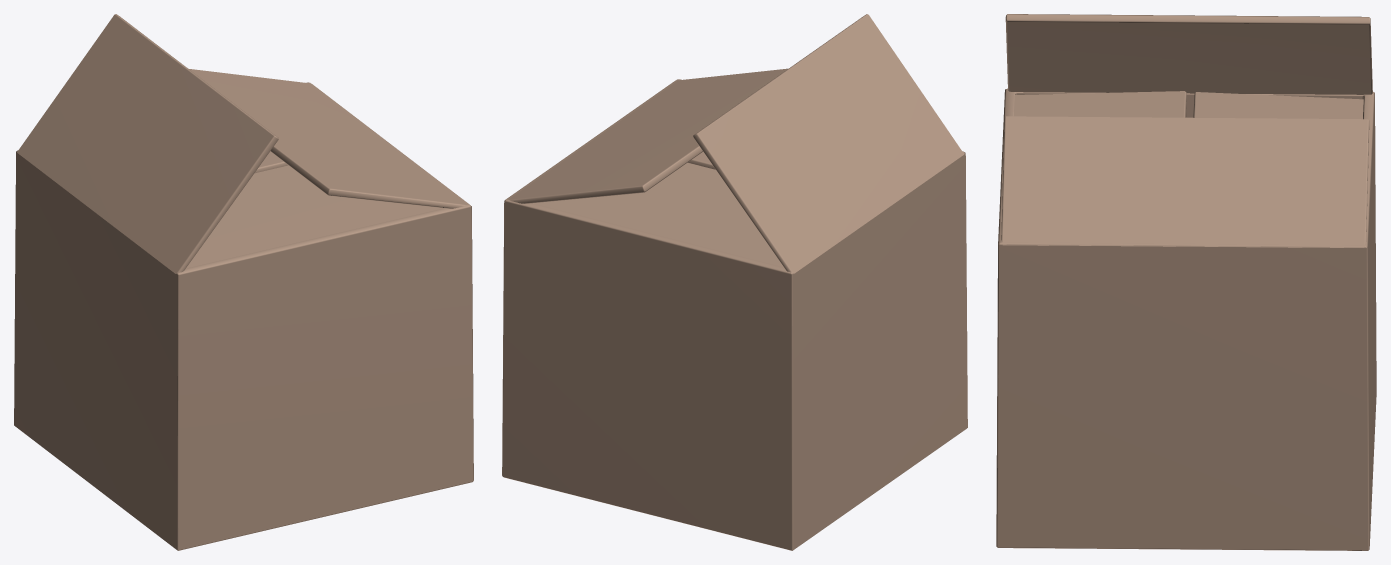
3 renders of one model, left to right at view 1: azimuth 30°, elevation 25°; view 2: azimuth 150°, elevation 25°; view 3: azimuth 270°, elevation 25°, orthographic. The views are drawn at different scales.
Visible parts, largest first — view 1: Box_3; view 2: Box_3; view 3: Box_3.
Part boxes in pixels (box(x1,y1,x2,y2)): Box_3: box(14, 14, 473, 550); Box_3: box(502, 14, 967, 550); Box_3: box(996, 14, 1376, 550).
Bounding box in the file's own units: 0.5335 × 0.6648 × 0.5335.
1 material, 1 textured.
